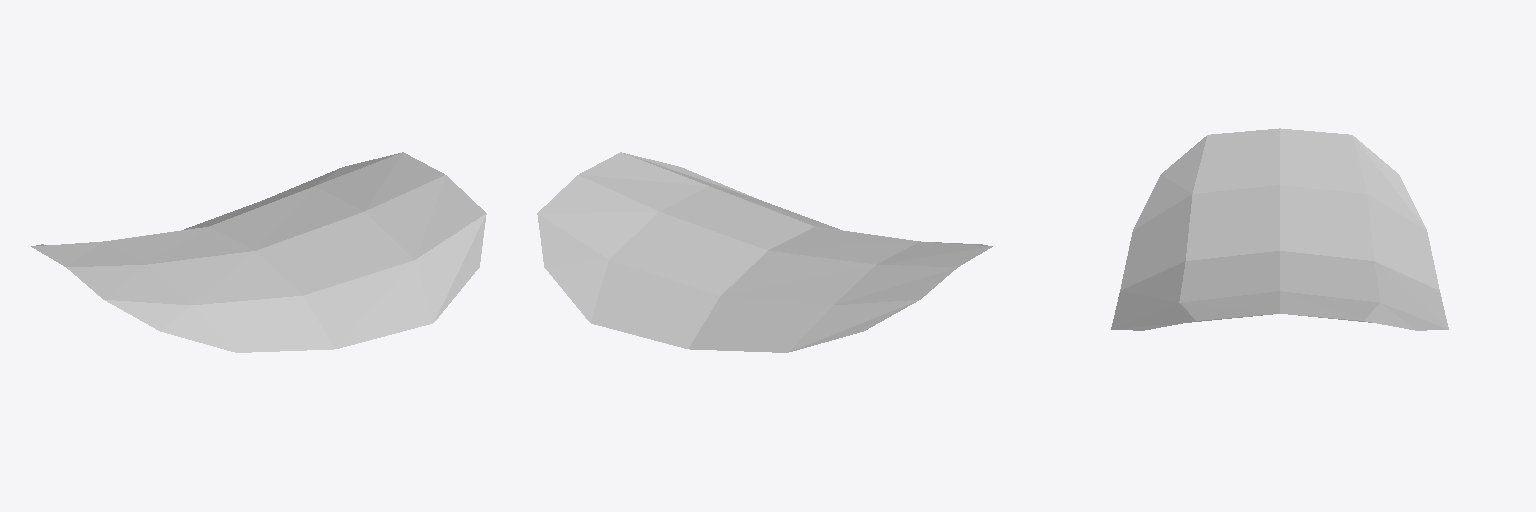
File: Chip1.obj
3 renders of one model, left to right at view 1: azimuth 30°, elevation 25°; view 2: azimuth 150°, elevation 25°; view 3: azimuth 270°, elevation 25°, orthographic.
Parts seen in each view (by area): view 1: Chip; view 2: Chip; view 3: Chip.
Part boxes in pixels (left/top/right/bottom): Chip: left=31, top=152, right=486, bottom=352; Chip: left=537, top=152, right=992, bottom=352; Chip: left=1111, top=128, right=1448, bottom=330.
Size of the model in its own units: 3.49 by 0.6126 by 2.69.